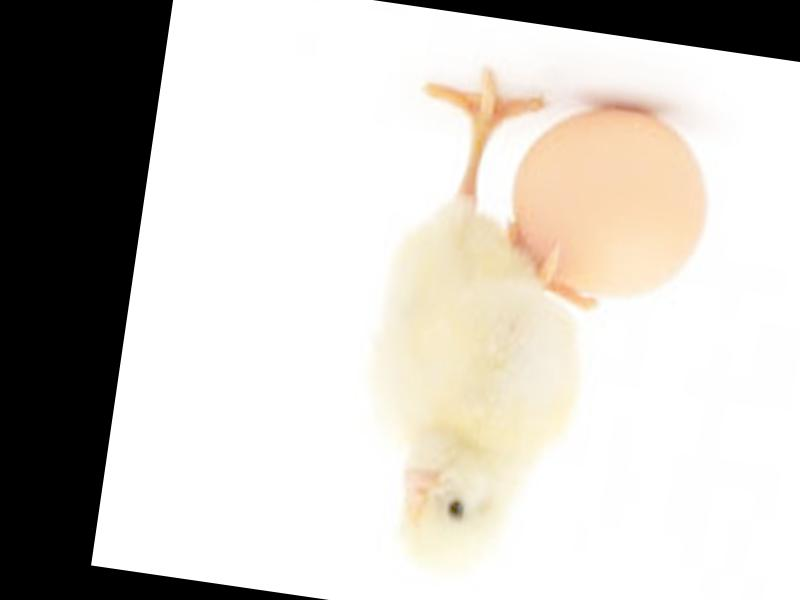Eggs: (494, 95, 721, 319)
